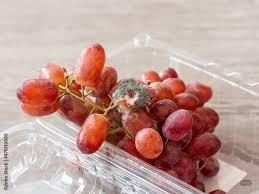Grape Overripe: (18, 43, 220, 191)
